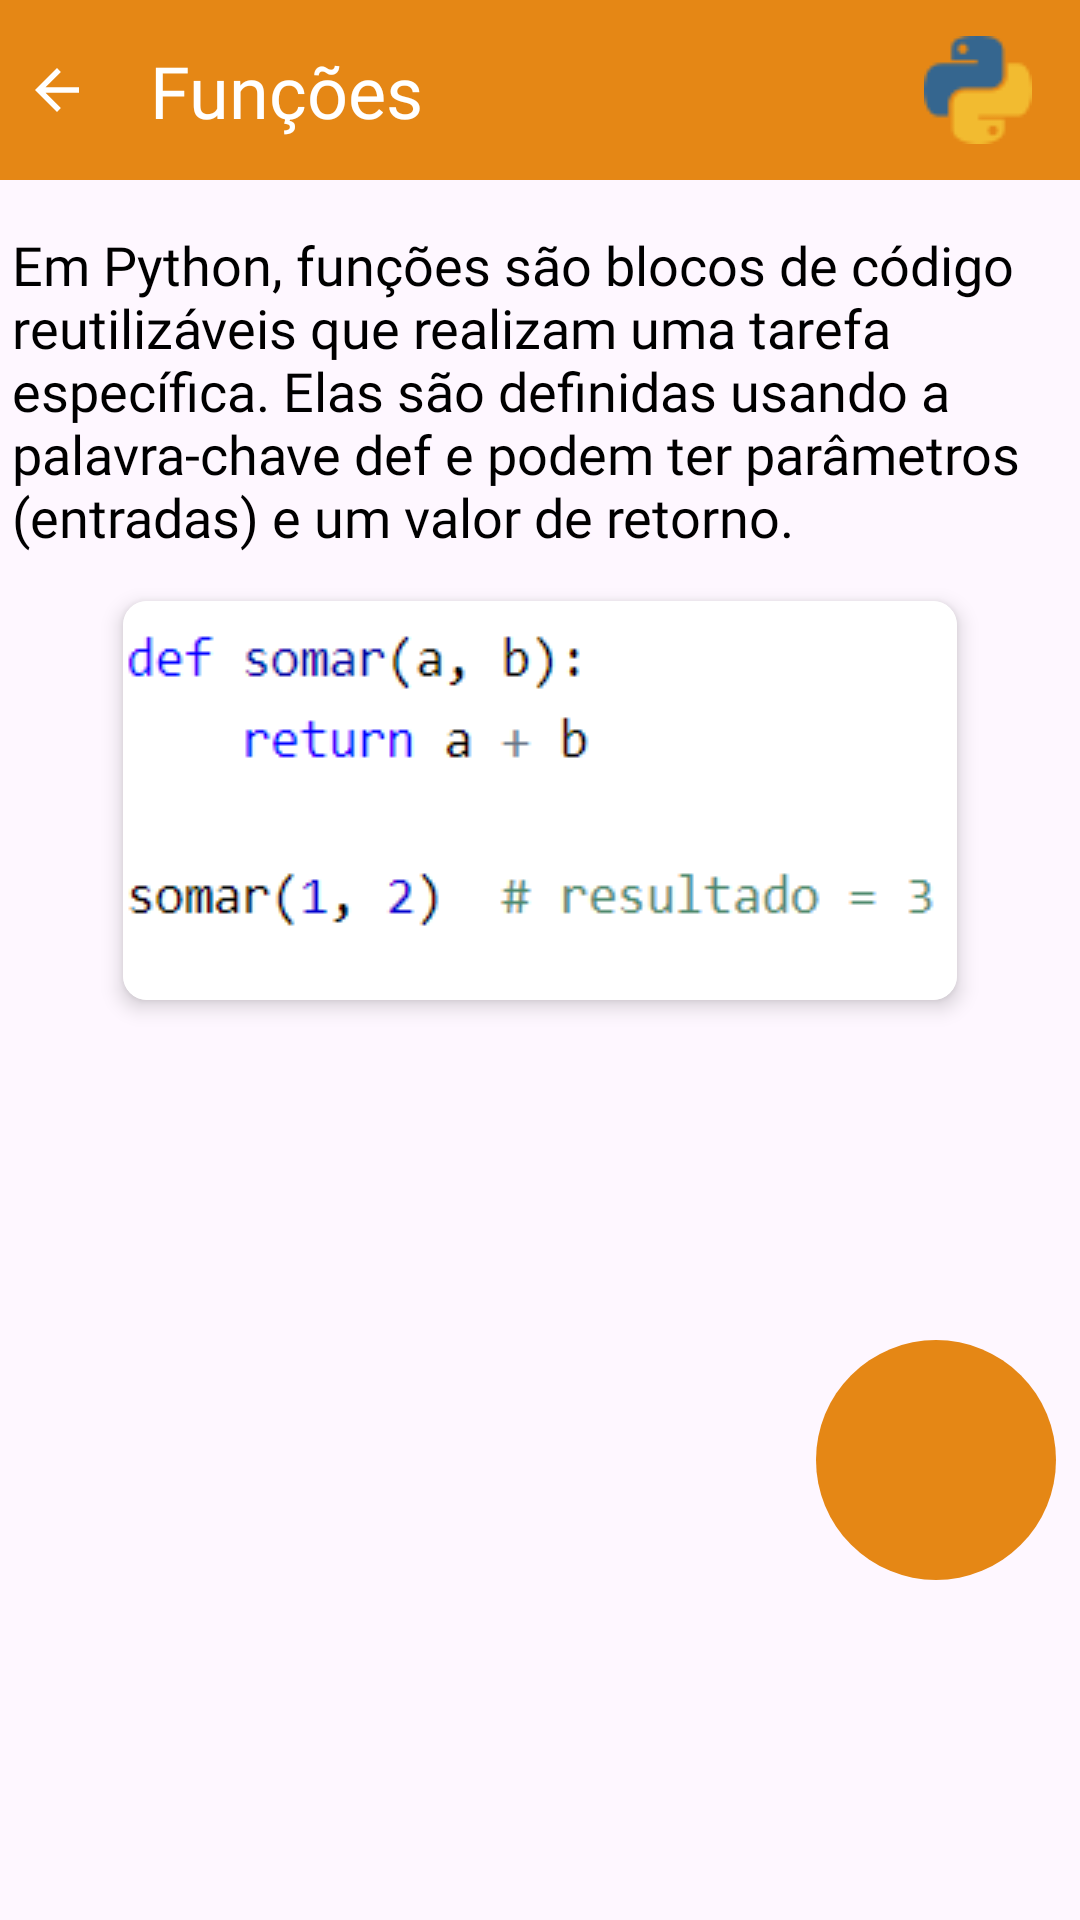

Point at icon controls on the screen. Image size 1080*1920, points as (x=x, y=y).
arrow back: (x=57, y=90)
